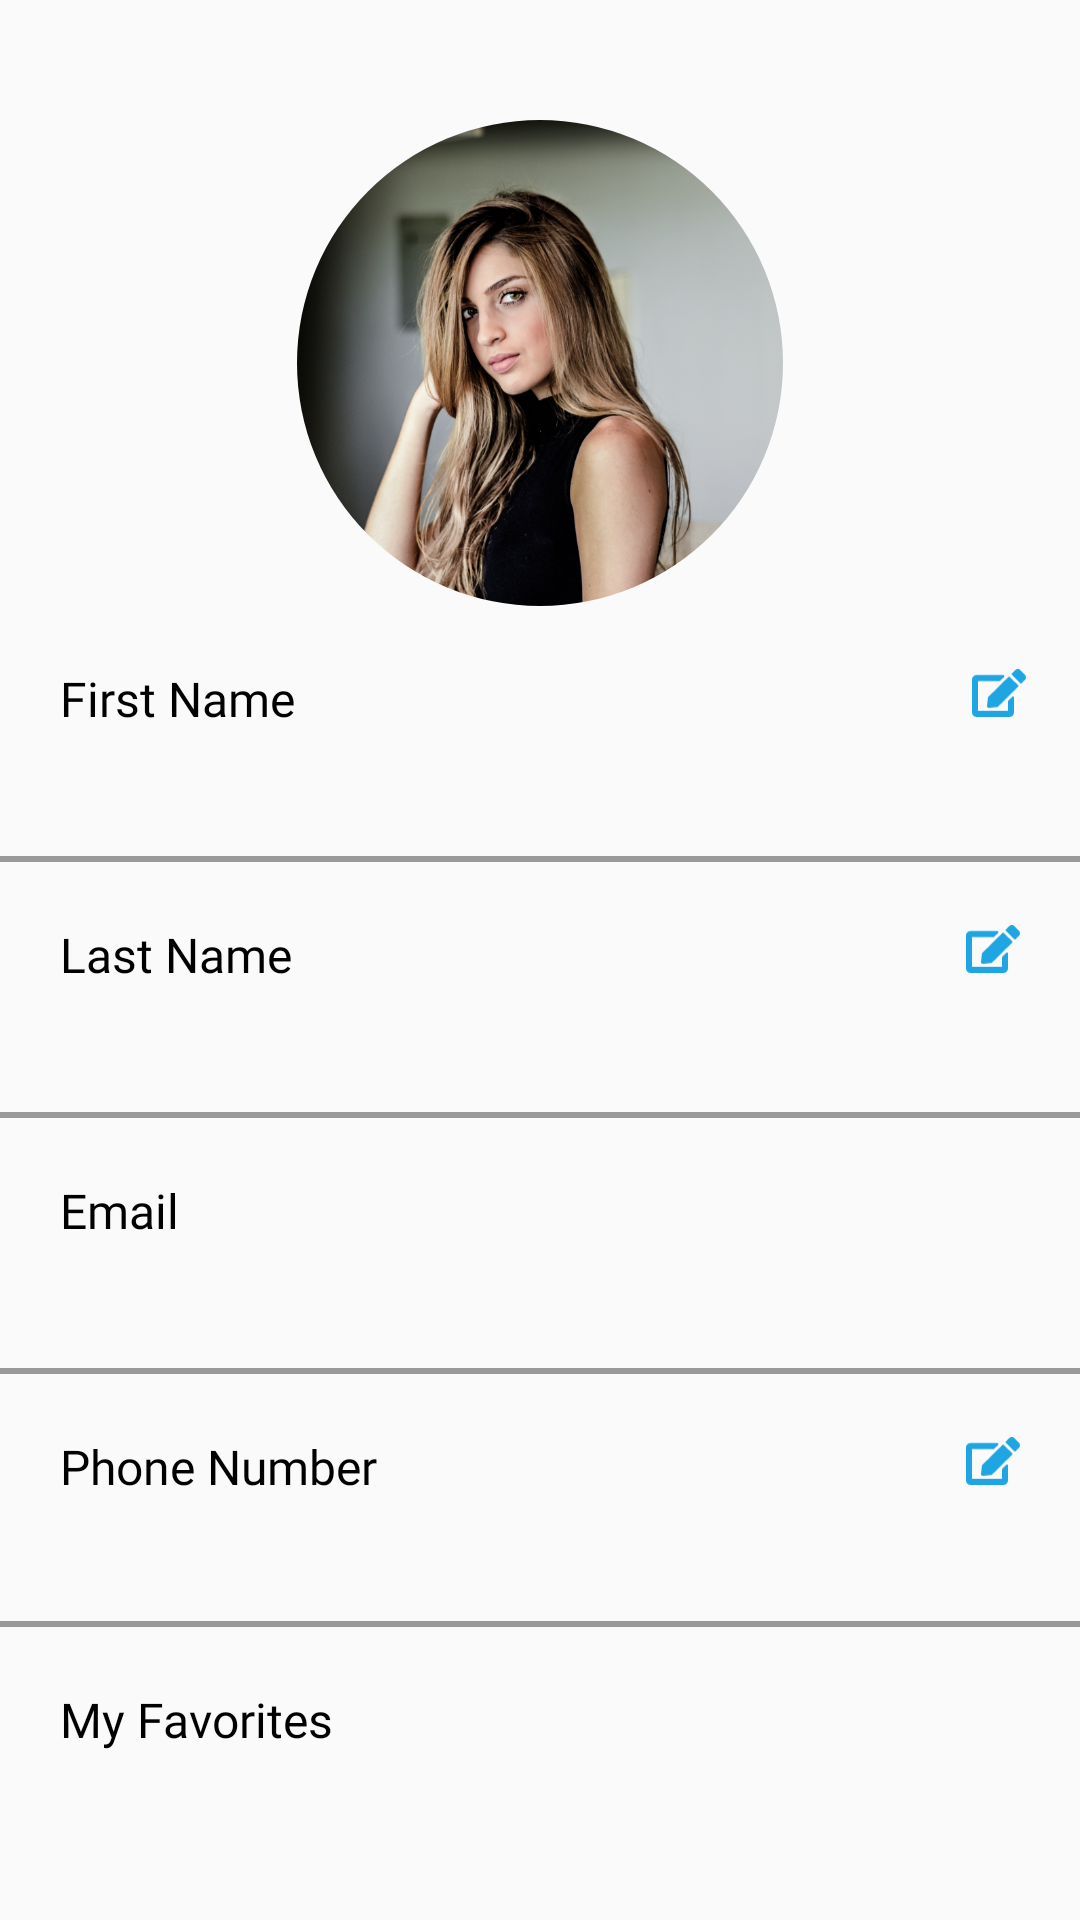

Icons on this 1080x1920 Android screen, each with its box as bbox=(x1, y1, x2, y2):
edit: bbox=(972, 669, 1026, 717), bbox=(966, 925, 1020, 973), bbox=(966, 1437, 1020, 1485)
